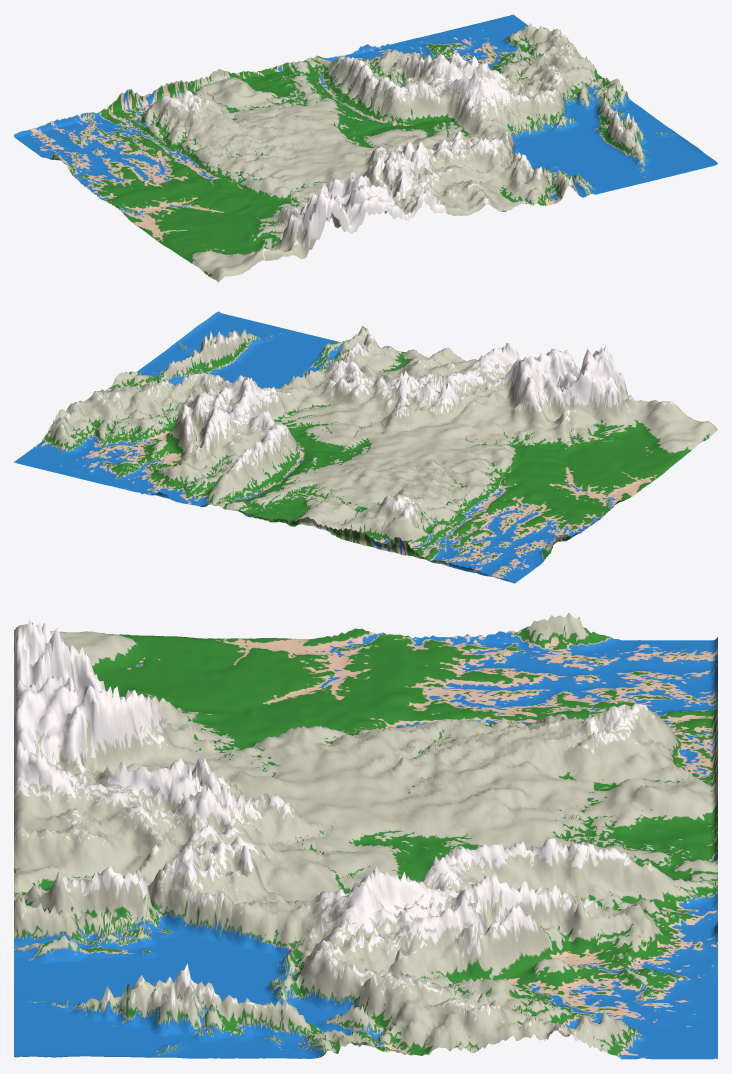
The model's file is World.fbx.
3 renders of one model, top to bottom at view 1: azimuth 30°, elevation 25°; view 2: azimuth 150°, elevation 25°; view 3: azimuth 270°, elevation 25°, orthographic. The views are drawn at different scales.
Visible parts, largest first — view 1: Plane; view 2: Plane; view 3: Plane.
Boxes of the visible parts, x1,y1,x2,y2 form: Plane: [14, 14, 717, 282]; Plane: [14, 311, 717, 583]; Plane: [14, 613, 717, 1059].
Bounding box in the file's own units: 64000 × 8348 × 45443.
